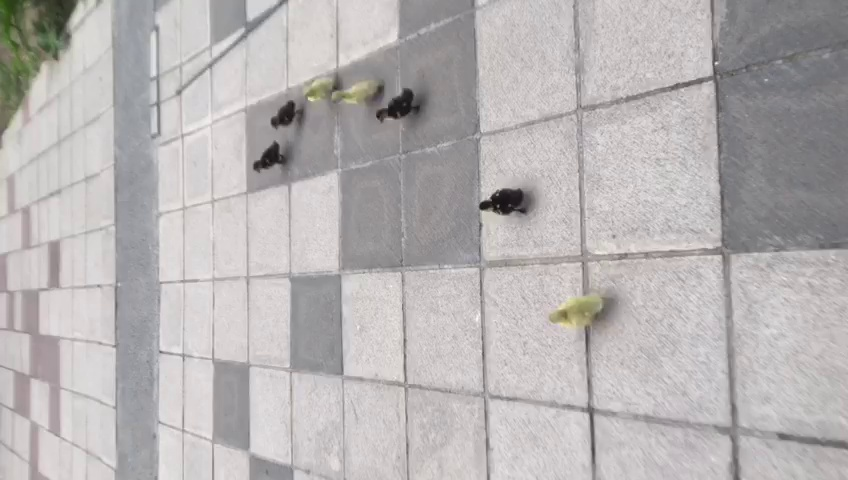patito: (550, 293, 603, 333), (376, 88, 418, 125), (332, 79, 386, 107), (480, 188, 527, 219), (252, 140, 286, 173), (300, 72, 335, 104), (269, 100, 302, 132)
